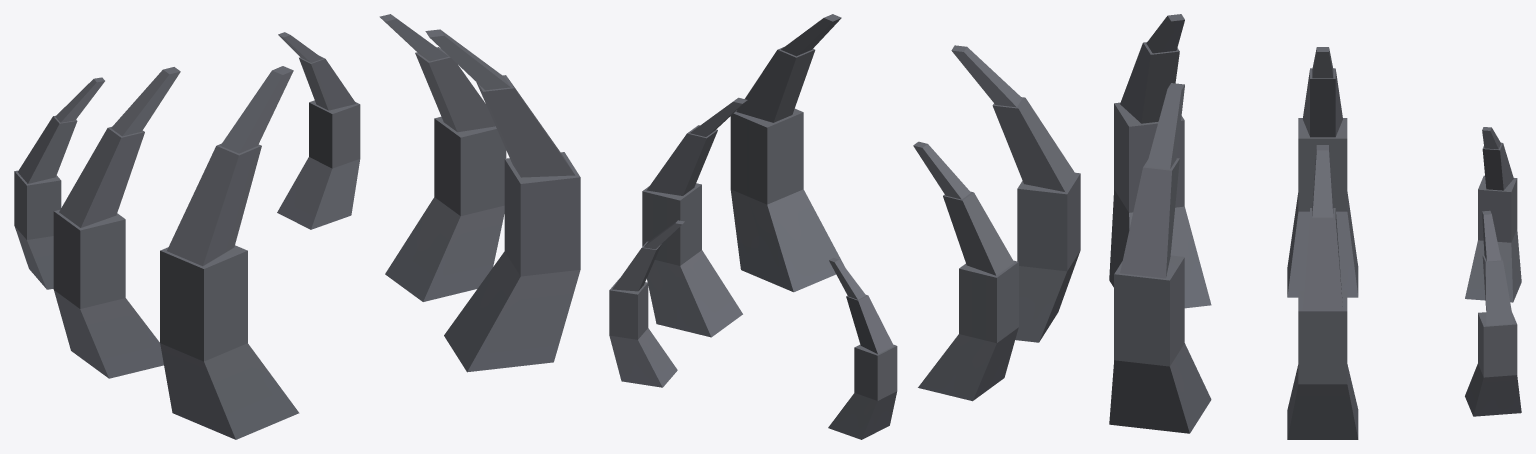
File: squelette.fbx
The picture shows the model from 3 angles, left to right: view 1: azimuth 30°, elevation 25°; view 2: azimuth 150°, elevation 25°; view 3: azimuth 270°, elevation 25°; orthographic projection. The views are drawn at different scales.
Visible parts, largest first — view 1: Squellette; view 2: Squellette; view 3: Squellette.
Part boxes in pixels (left/top/right/bottom): Squellette: left=14, top=14, right=580, bottom=439; Squellette: left=609, top=14, right=1080, bottom=439; Squellette: left=1109, top=14, right=1521, bottom=439.
Bounding box in the file's own units: 1320 × 959 × 1189.
